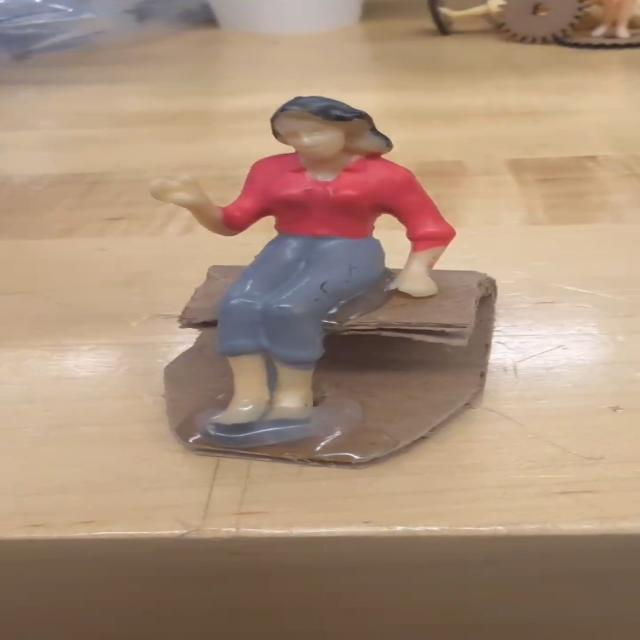Authorized: (133, 88, 436, 466)
